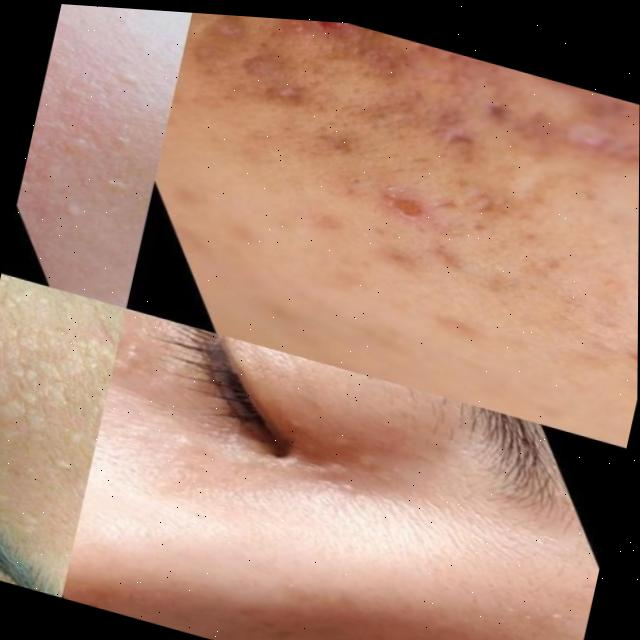Acne: (189, 13, 640, 307), (187, 360, 381, 526), (18, 29, 158, 227), (0, 307, 98, 532)
